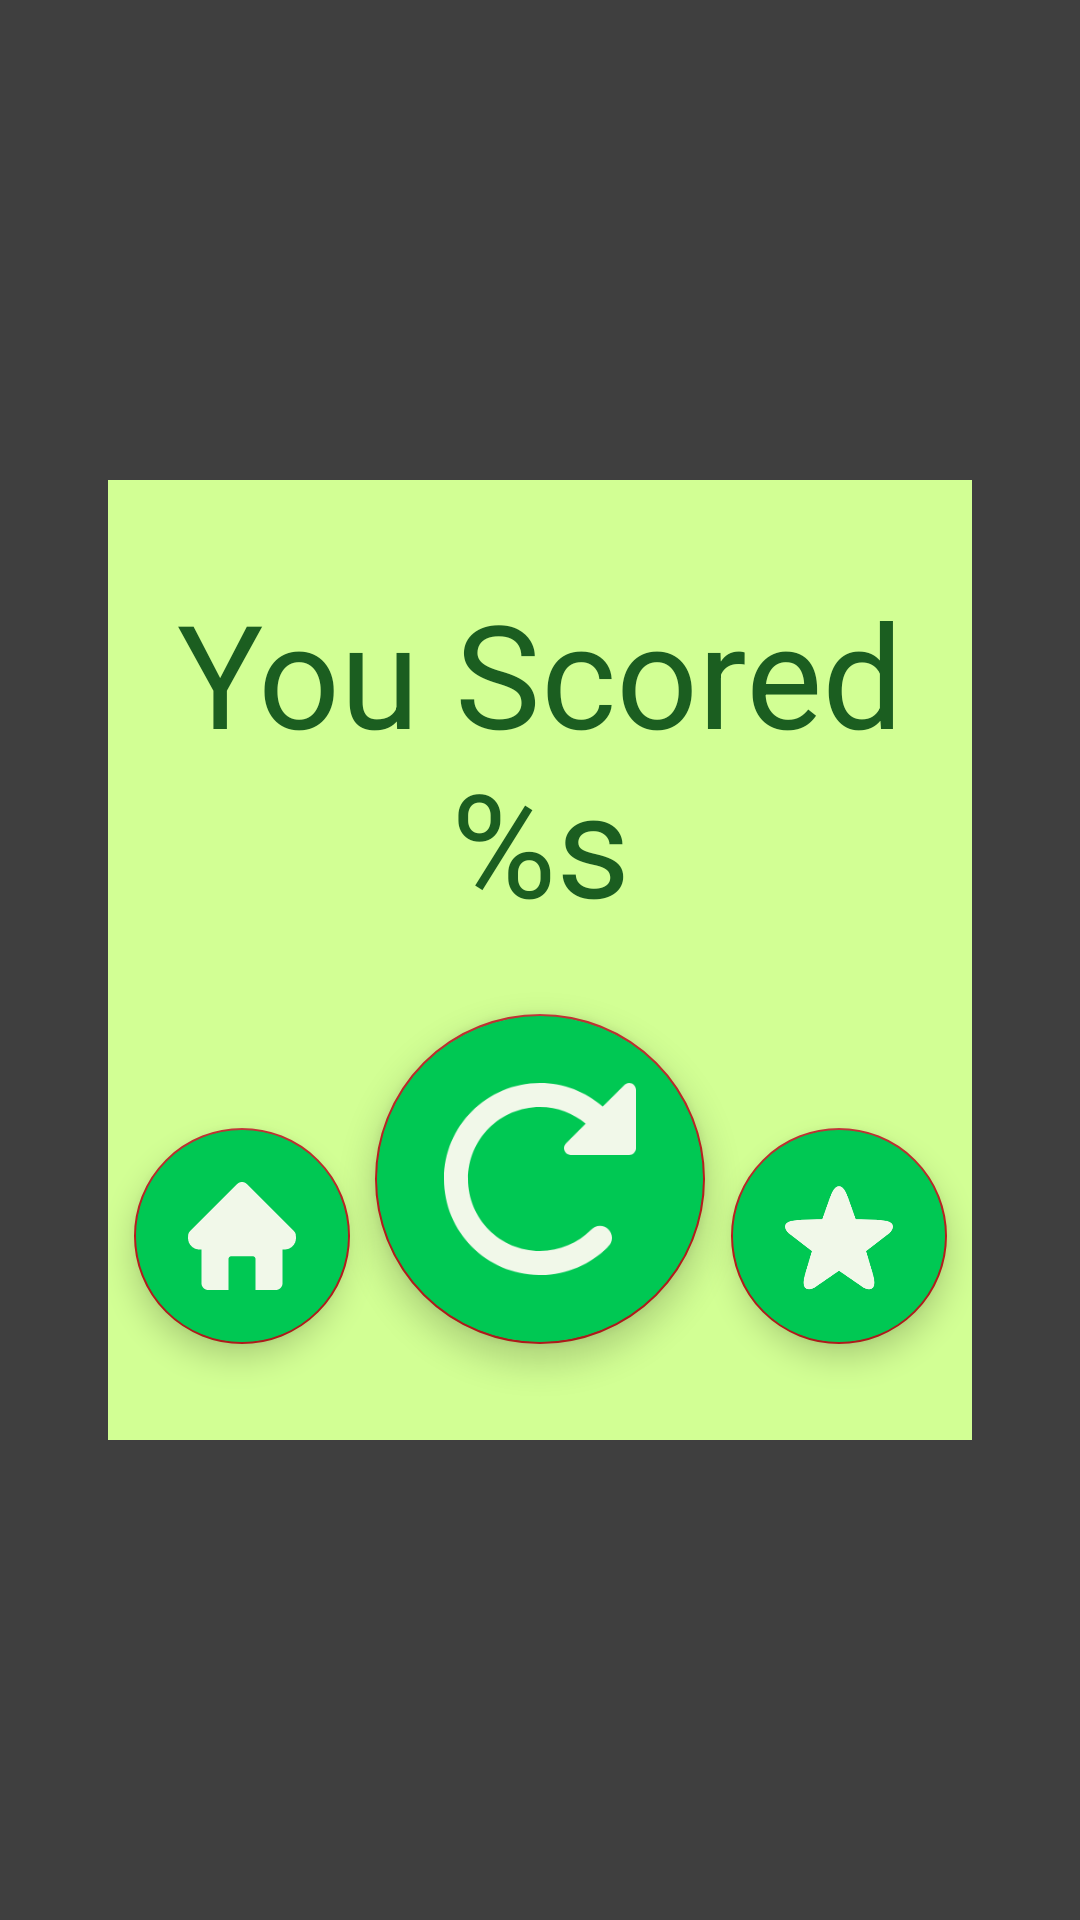

Named icons in this screenshot (1080×1920) and their bounding boxes, box(x1, y1, x2, y2):
home: box(134, 1128, 350, 1344)
rating star: box(731, 1128, 947, 1344)
replay: box(375, 1014, 705, 1344)
